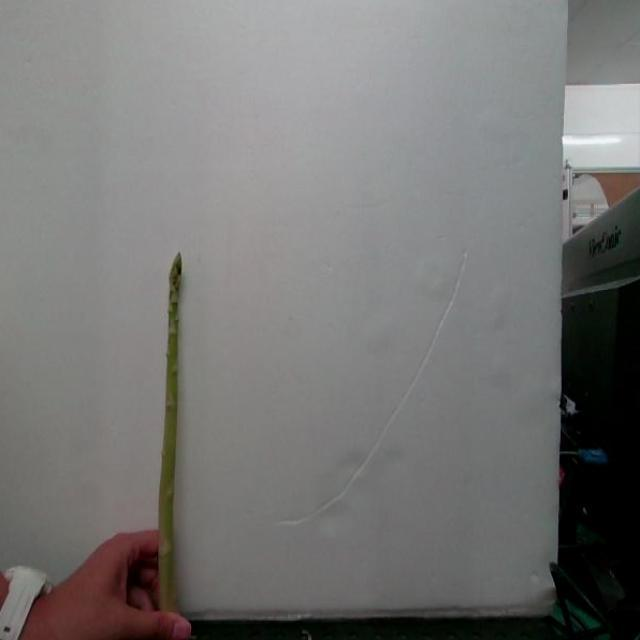aspargus: (158, 254, 186, 617)
